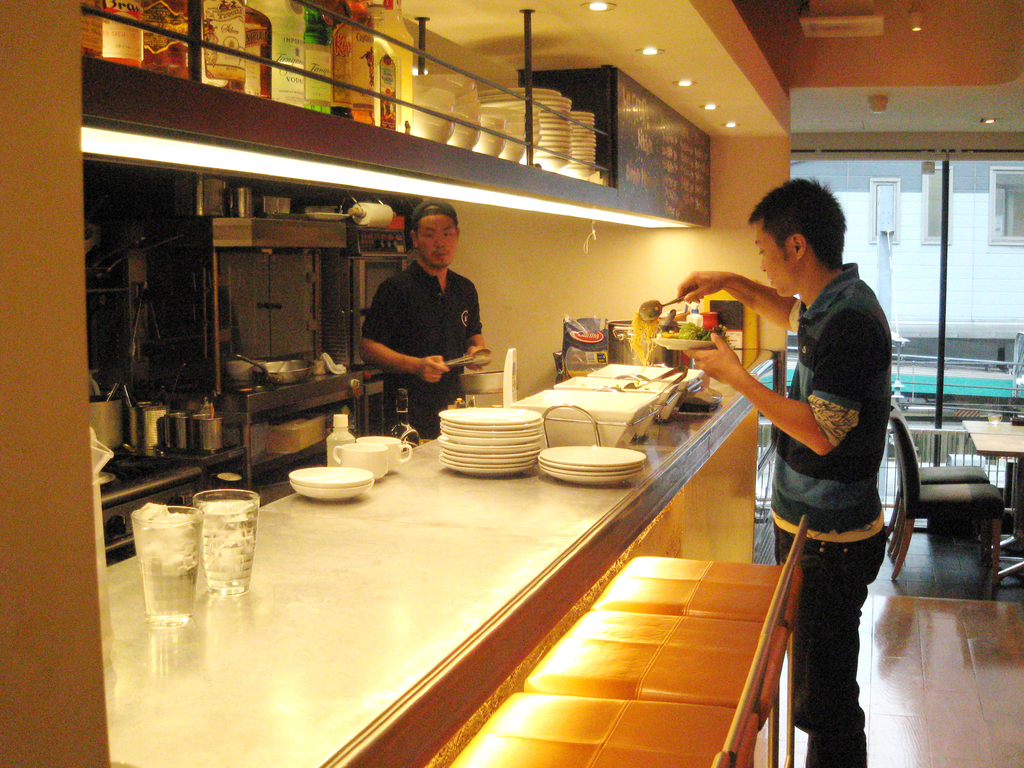Person: (676, 176, 892, 767), (360, 199, 492, 440)
